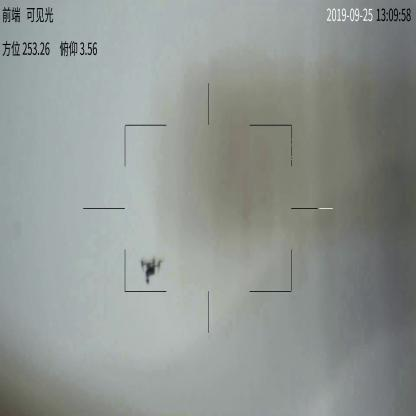uav: (138, 258, 162, 284)
